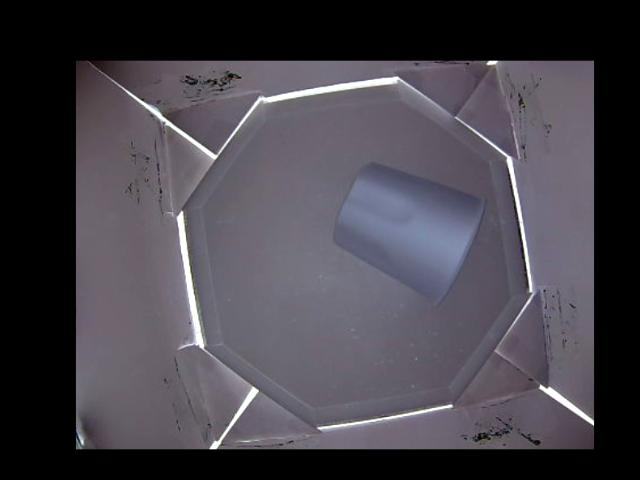Cup: (331, 161, 485, 304)
